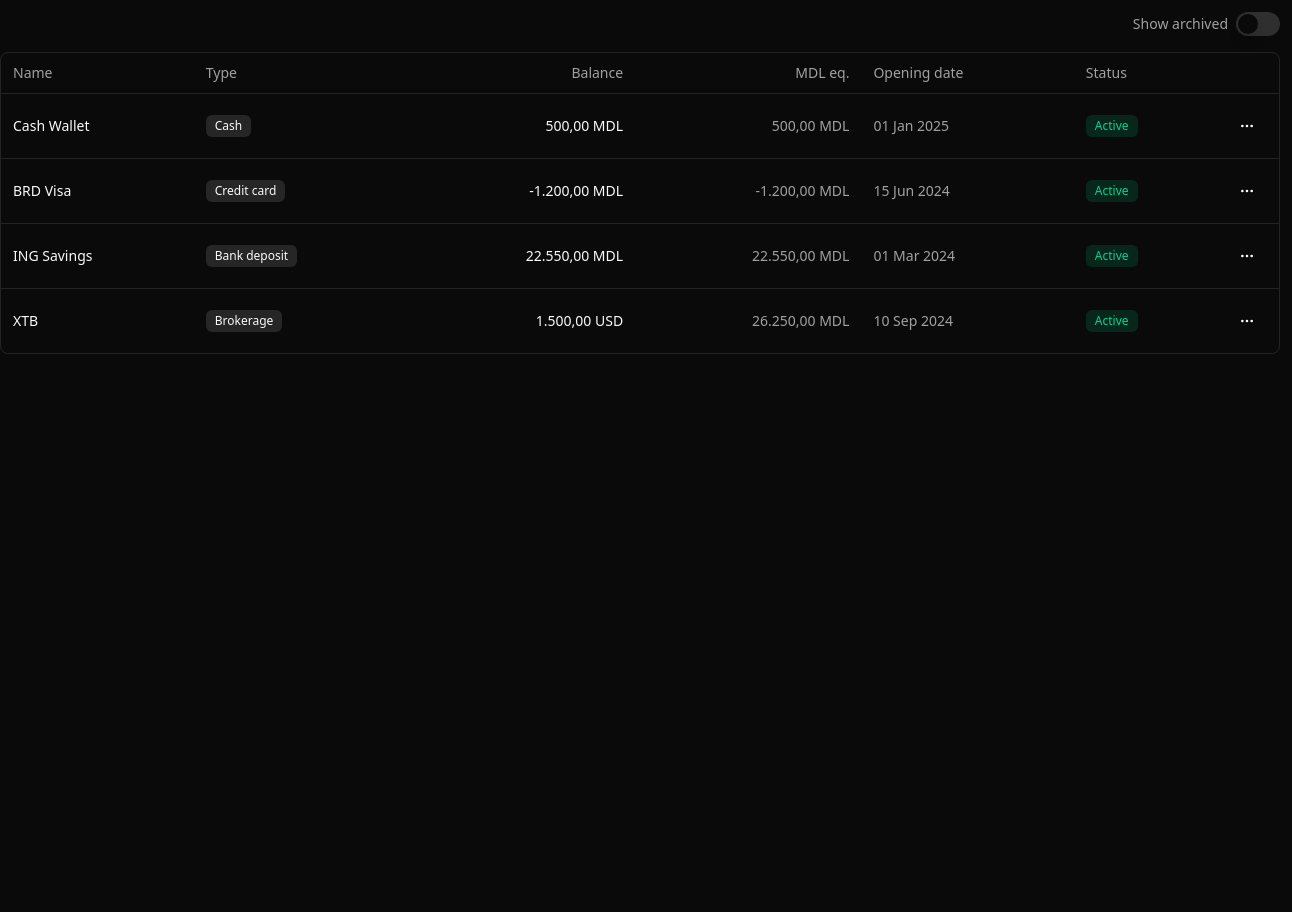
Test case: AccountsTable navigation › unarchives an archived row when "Show archived" is on
The width and height of the screenshot is (1292, 912).
Expected: the row with test id "account-row" that starts with "Cash Wallet" is shown, [1, 93, 1279, 158]
Expected: the text "Old Revolut" is not shown
Note: Flip the toggle so the archived account ("Old Revolut") is fetched.
Click the switch with test id "show-archived-toggle" at (1258, 24), box [1236, 12, 1280, 36]
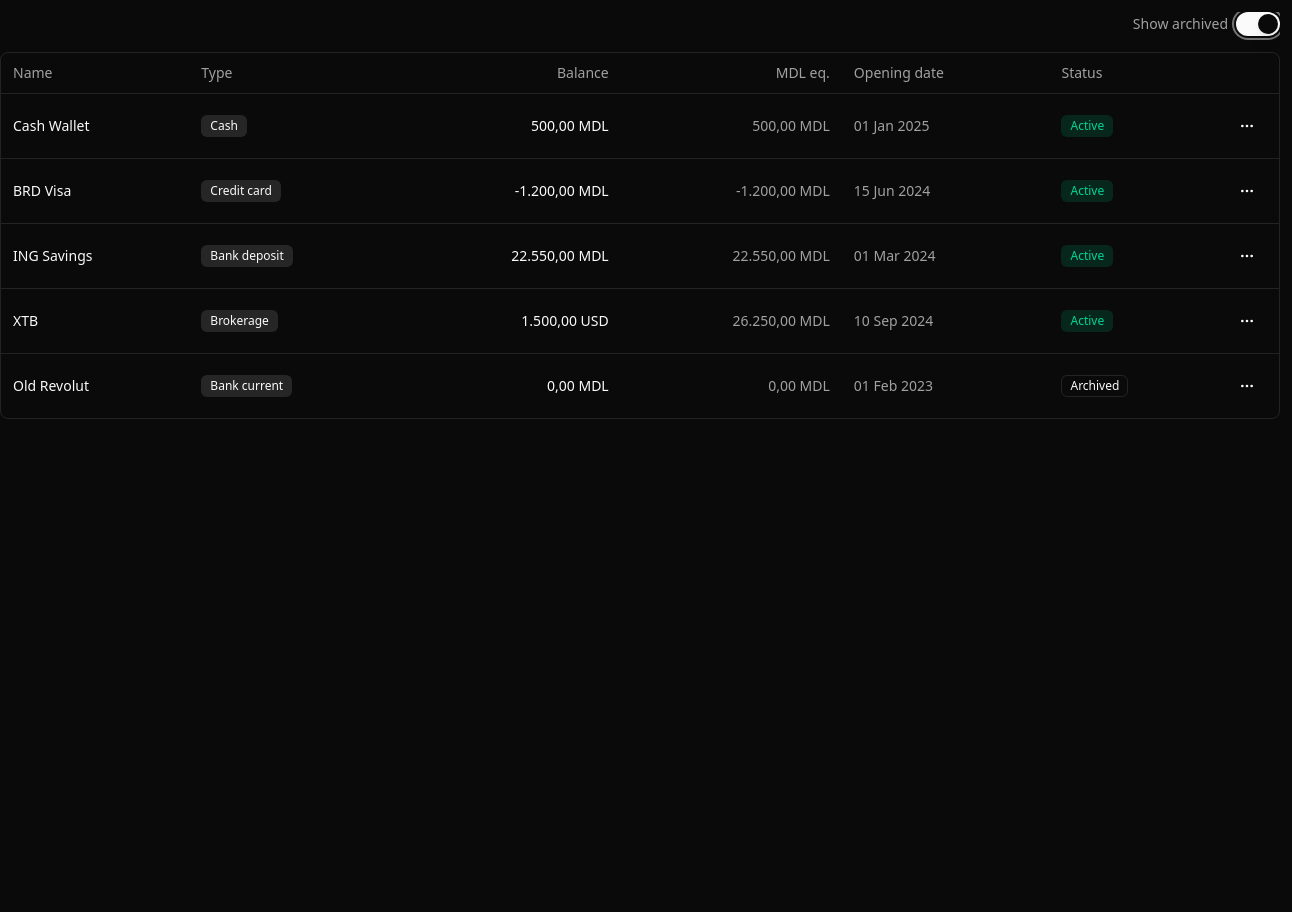
Expected: the row "Old Revolut" is shown, [1, 353, 1279, 418]
Expected: the button with test id "account-actions" is shown
Click the button with test id "account-actions" at (1247, 386), box [1227, 366, 1267, 406]
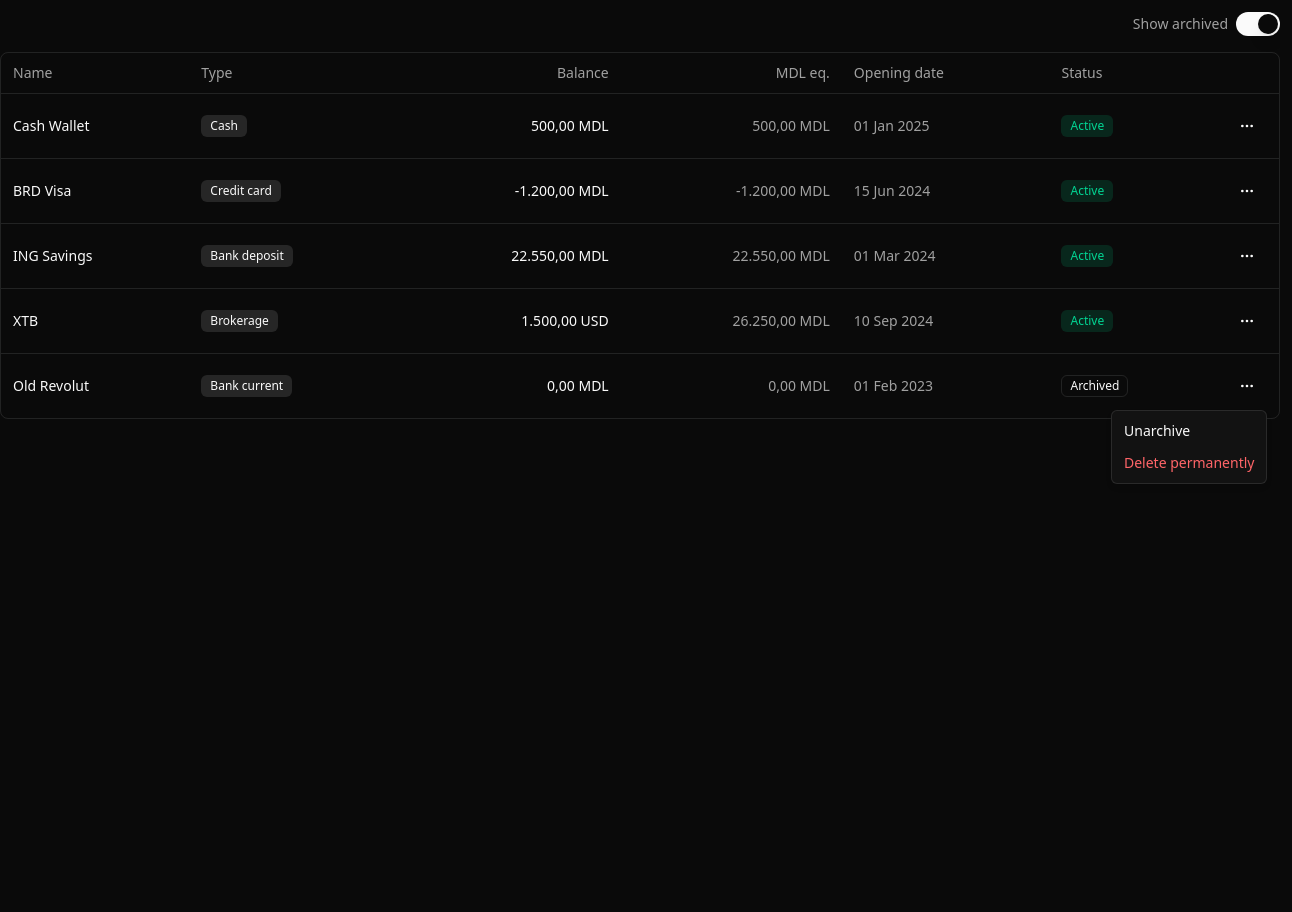
Click the menu item with test id "unarchive-account" at (1157, 430), box [1124, 421, 1190, 440]
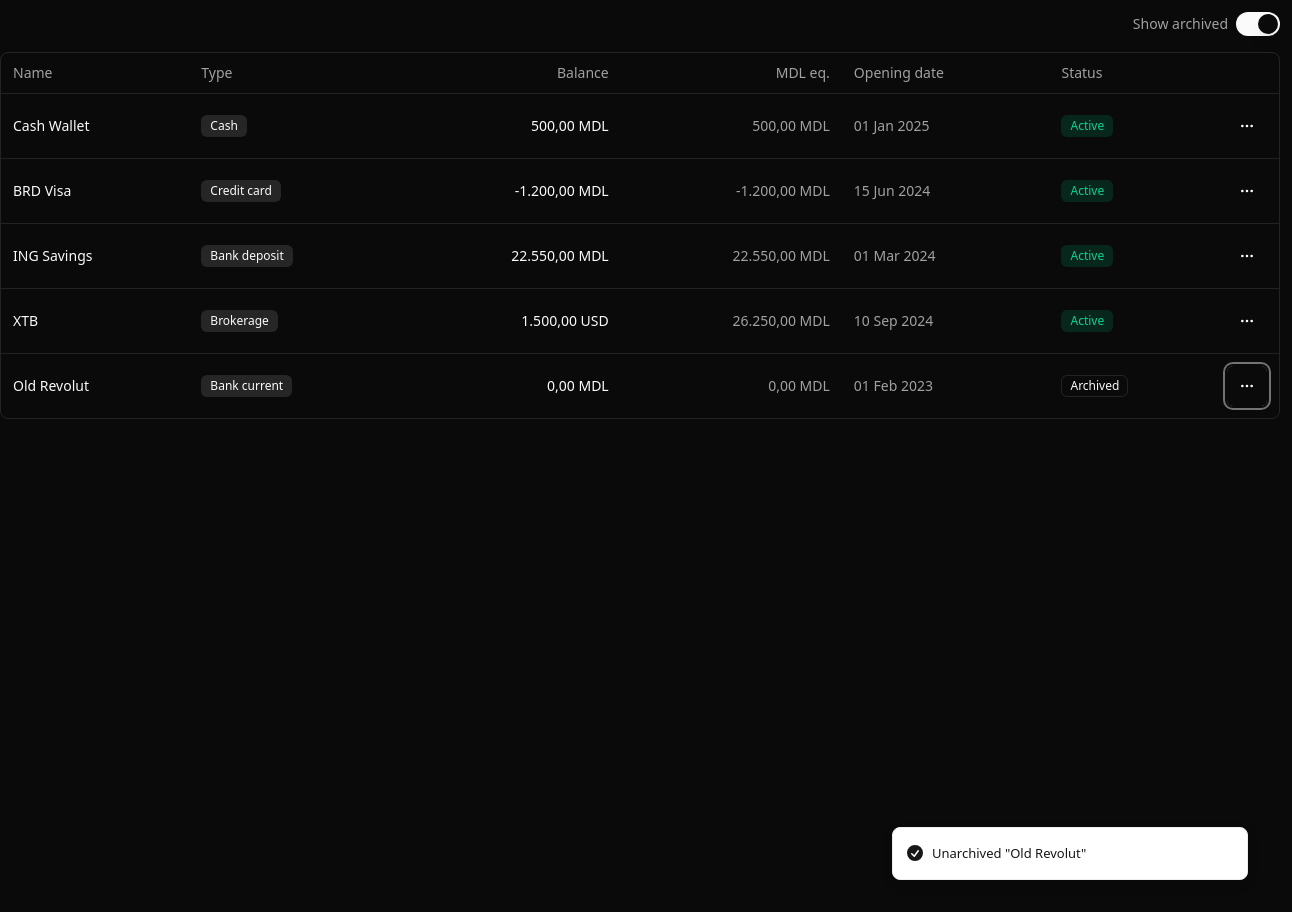
Expected: the text "Unarchived \"Old Revolut\"" is shown, [932, 844, 1086, 863]
